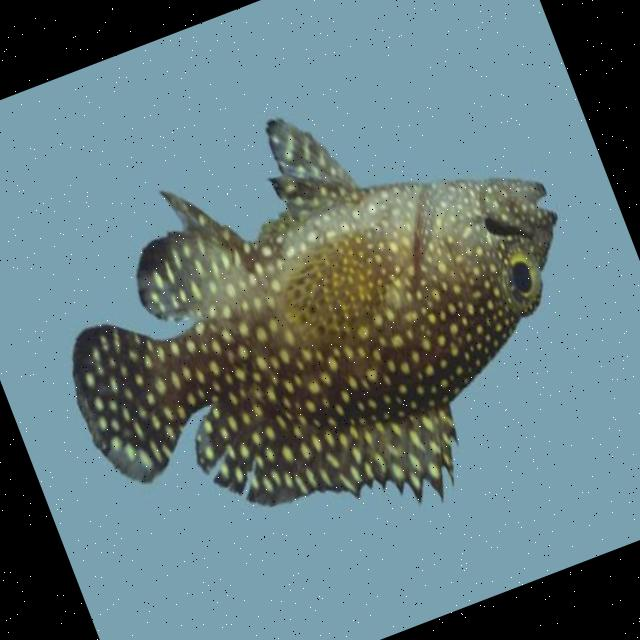ikan: (7, 36, 640, 613)
